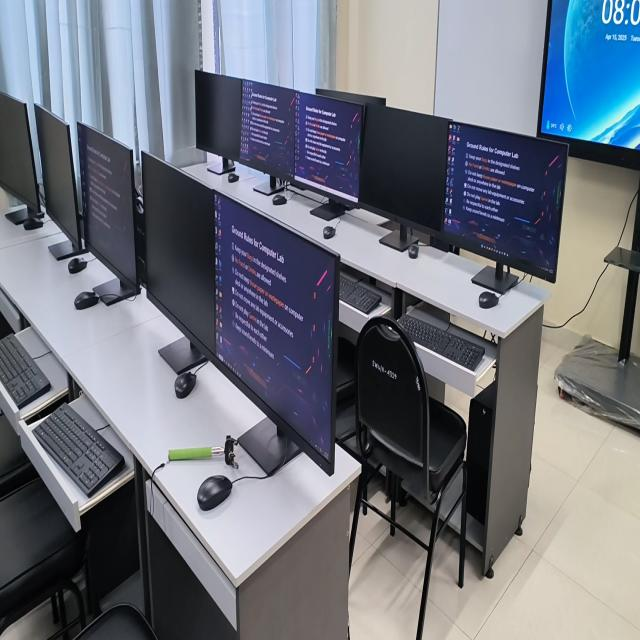Chair: (349, 317, 467, 639), (0, 477, 87, 634), (0, 414, 39, 498), (74, 603, 157, 639), (336, 337, 356, 439)
Cpu: (466, 379, 497, 525)
Digital board: (536, 0, 640, 434)
Keyboard: (33, 404, 124, 497), (398, 314, 485, 371), (0, 335, 51, 409), (340, 276, 382, 314)
Monitor: (213, 193, 338, 475), (440, 123, 567, 293), (142, 153, 215, 373), (358, 103, 449, 251), (78, 123, 140, 305), (293, 92, 364, 220), (34, 104, 87, 260), (239, 79, 296, 194), (0, 89, 41, 223), (195, 70, 242, 174), (316, 89, 386, 105)
Mouse: (197, 475, 232, 511), (174, 372, 196, 398), (74, 292, 99, 310), (479, 290, 499, 308), (23, 215, 44, 230), (68, 258, 87, 273), (323, 226, 336, 239), (408, 243, 419, 258), (273, 194, 287, 205), (228, 172, 239, 183)
